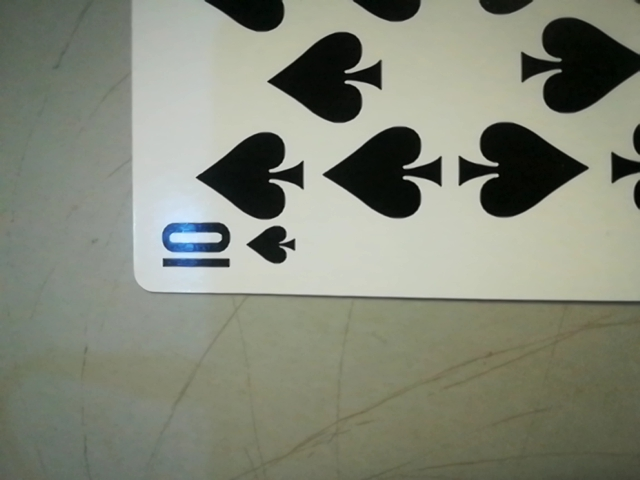ht 10: (141, 205, 309, 284)
